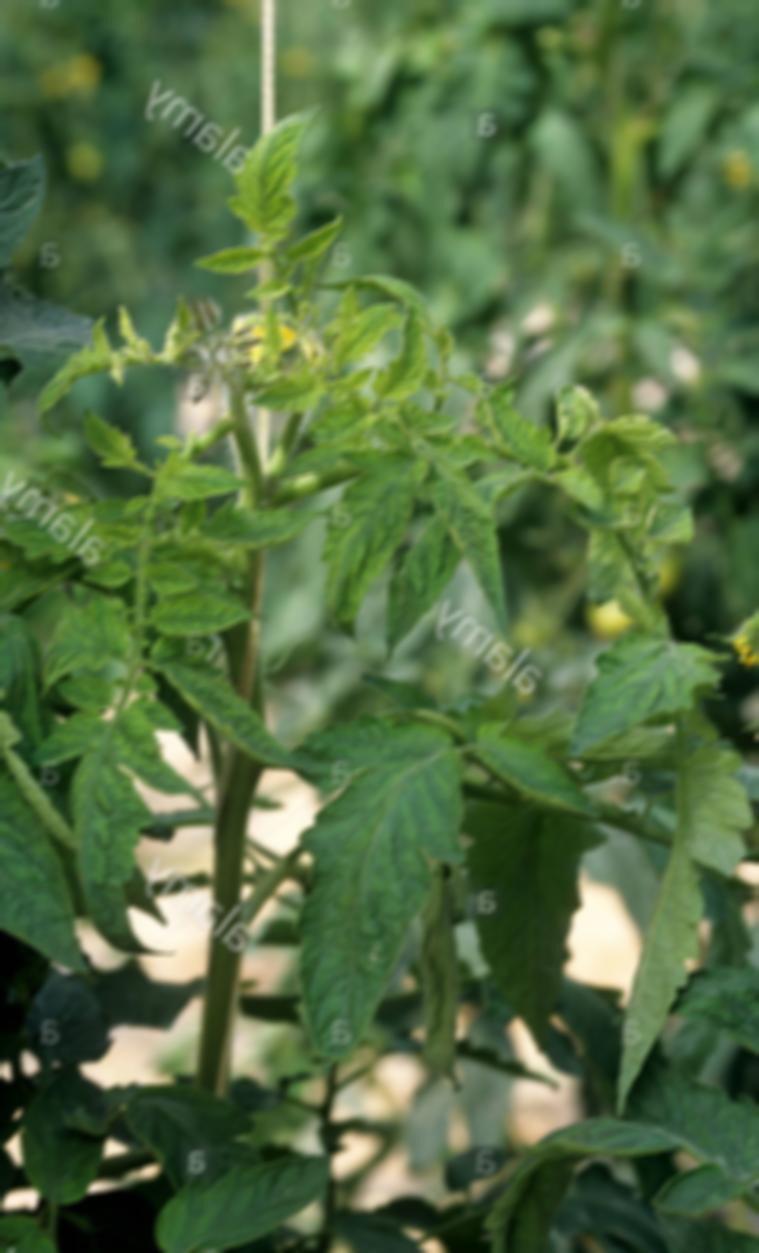Tomato leaf yellow virus: (71, 441, 273, 948), (551, 707, 759, 1115), (288, 726, 465, 1069), (417, 413, 505, 659)
